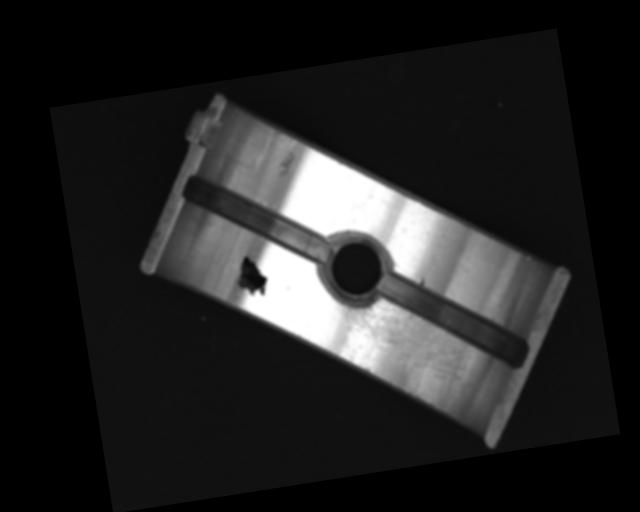blot: (232, 252, 270, 299)
bruise: (272, 150, 300, 181), (417, 275, 426, 287)
gap: (375, 254, 530, 385), (180, 158, 328, 279)
hole: (315, 230, 394, 308)
scratch: (336, 279, 480, 413)
